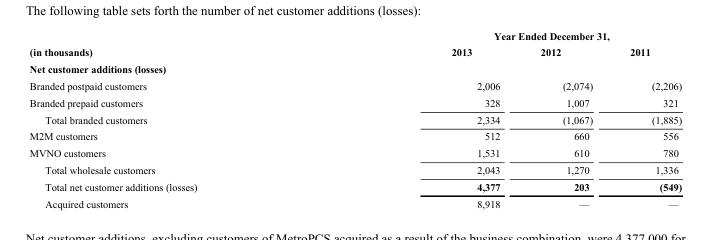table: (28, 29, 681, 208)
table column: (28, 29, 323, 208), (323, 29, 519, 208), (519, 29, 610, 208), (610, 29, 681, 208)
table column header: (28, 29, 681, 60)
table projected row header: (28, 60, 681, 77)
table row: (28, 43, 681, 60), (28, 60, 681, 77), (28, 93, 681, 110), (28, 110, 681, 127), (28, 127, 681, 144), (28, 144, 681, 161), (28, 177, 681, 194), (28, 77, 681, 93), (28, 161, 681, 177), (28, 29, 681, 43), (28, 194, 681, 208)
table spanning cell: (28, 29, 323, 60), (323, 29, 681, 43)
